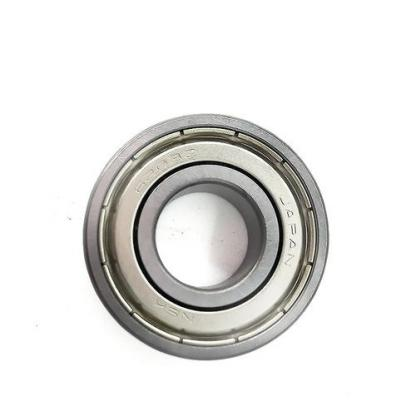FOD: (81, 106, 333, 364)
